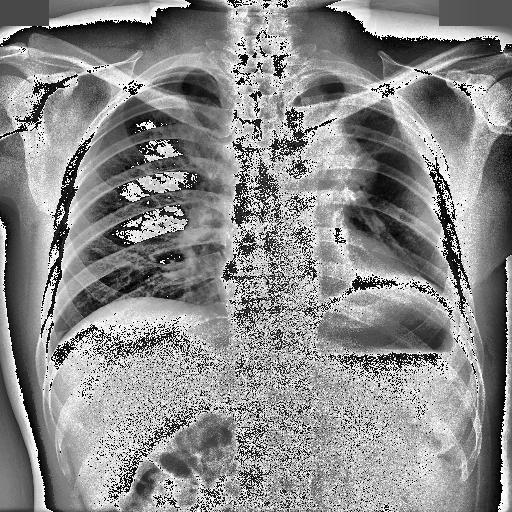7- Lung Opacity: (296, 68, 426, 154), (290, 120, 376, 202)
8- Nodule-Mass: (264, 90, 380, 212), (304, 92, 374, 206), (290, 120, 376, 202)
9- Other lesion: (346, 268, 380, 284)
